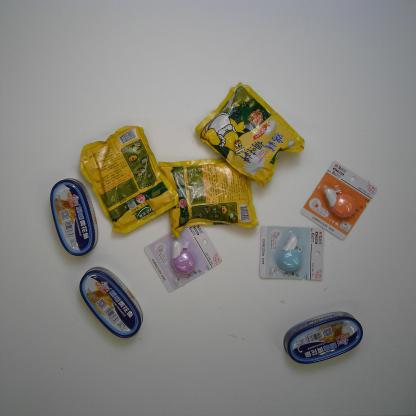Canned Food: (78, 266, 144, 340), (283, 309, 364, 366), (49, 176, 98, 258)
Seasoner: (193, 78, 306, 188), (76, 124, 180, 236), (158, 153, 260, 240)
Stationery: (299, 159, 377, 243), (142, 217, 224, 295), (257, 225, 327, 282)
